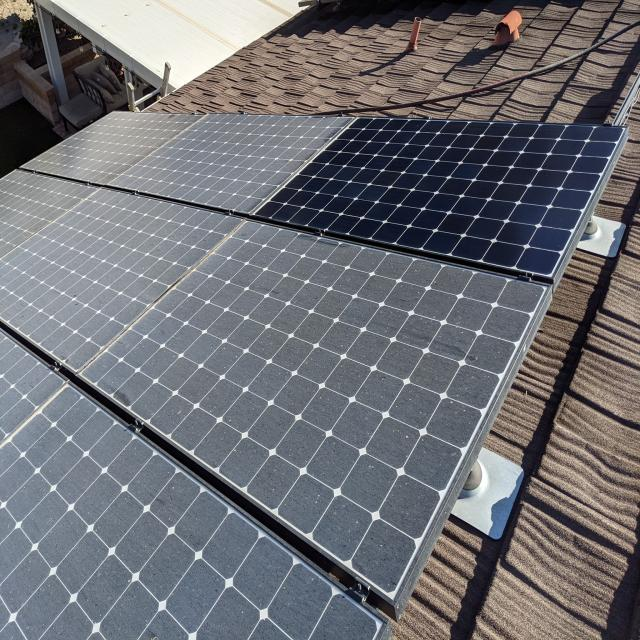dust-solar-panel: (0, 108, 547, 640)
